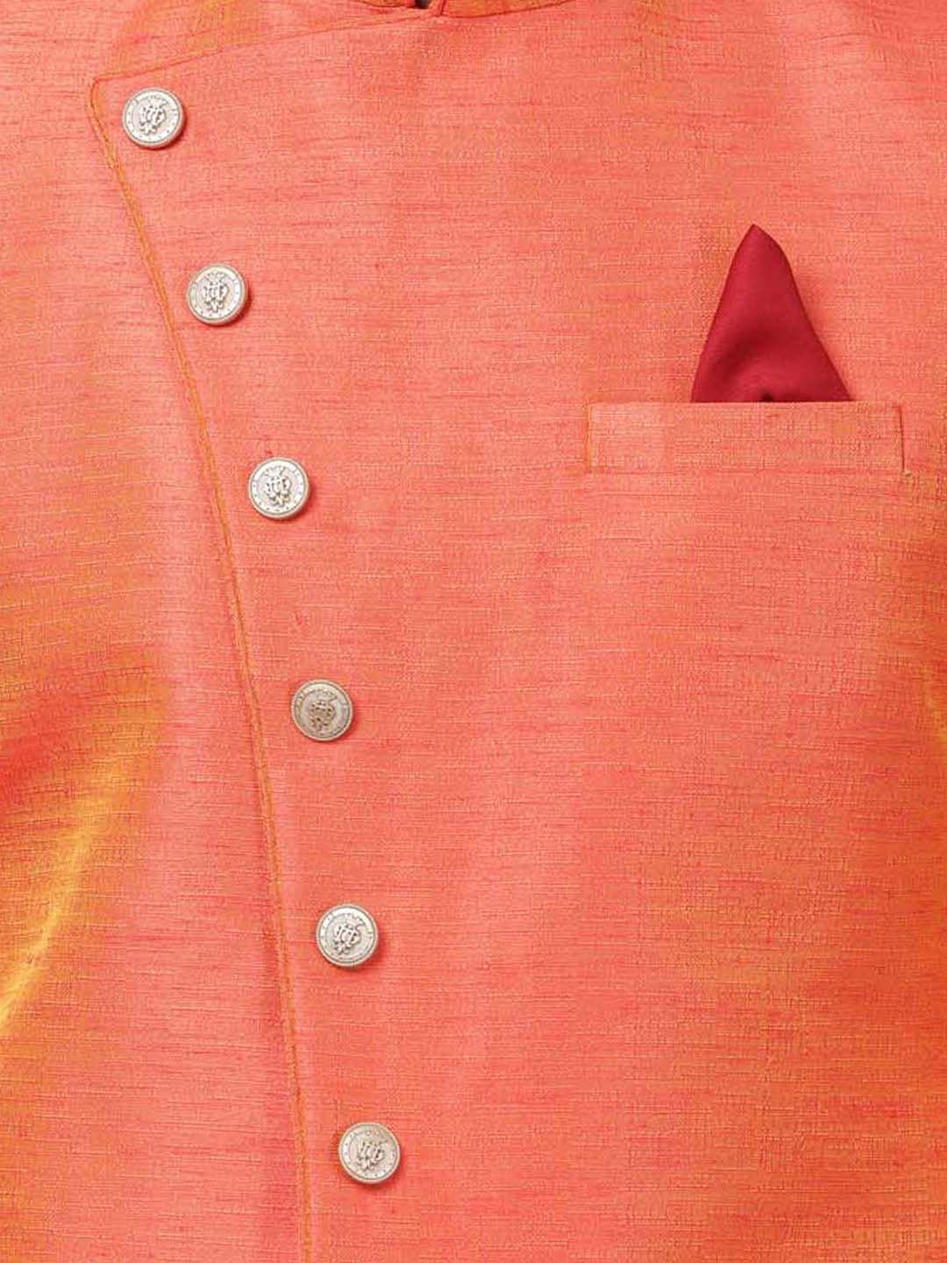Plain Sherwani: (3, 4, 946, 1261)
